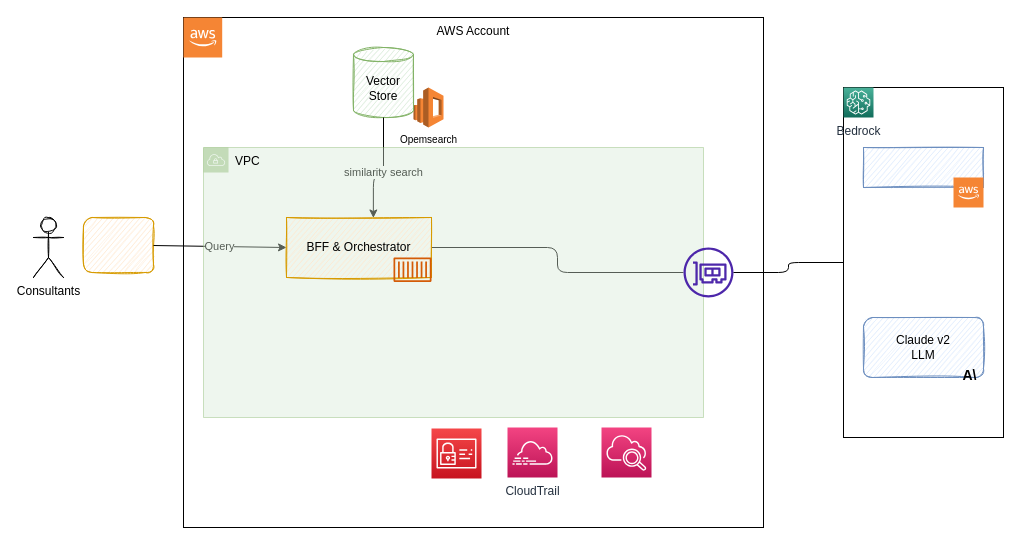
Some shapes in this 1021 by 545 pixel diagram are drawn without their labels. Here are the shapes that lost their labels. From the top down, the centre of each, then its label:
pixel 923 167: Titan Embeddings
pixel 118 244: ChatBot Q&A UI
pixel 412 269: ECS Task
pixel 456 453: IAM
pixel 626 452: CloudWatch
